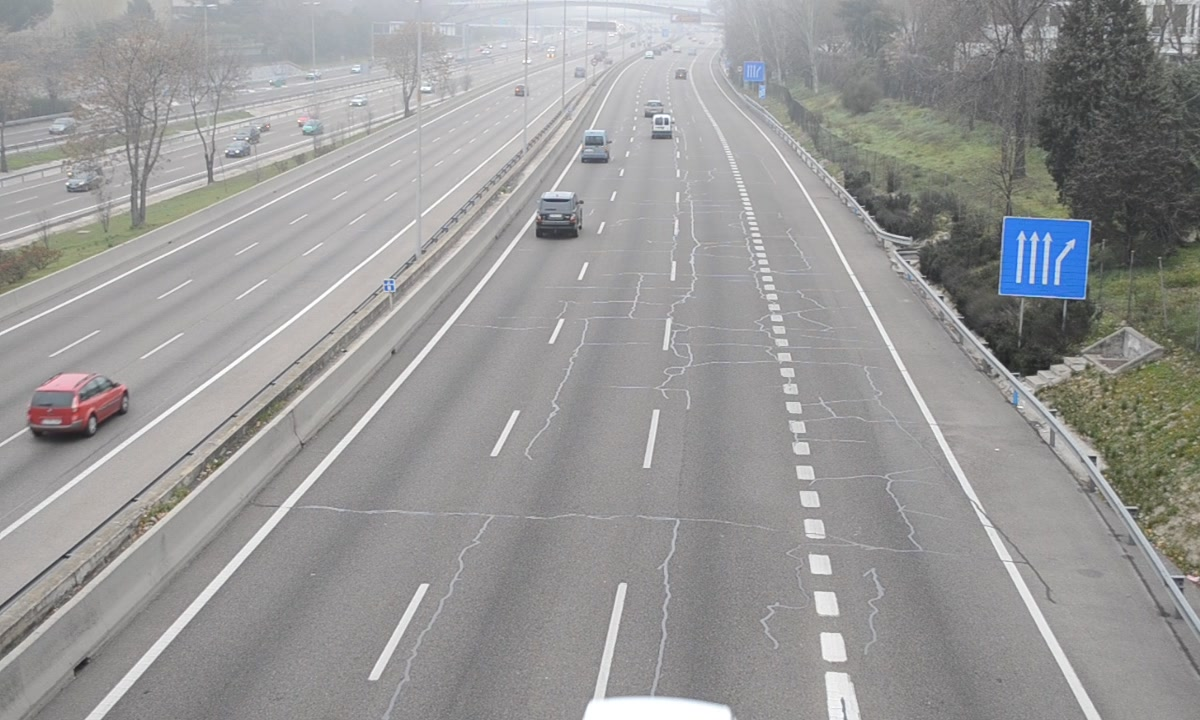car: (535, 191, 584, 234)
van: (581, 128, 611, 165)
